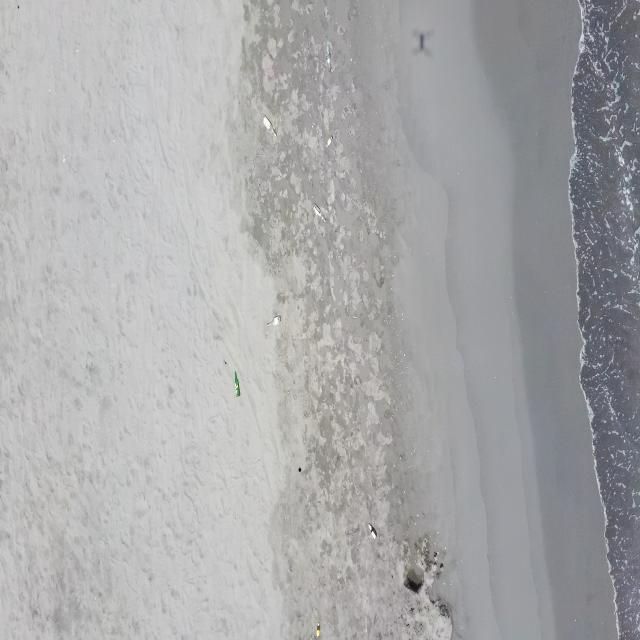glass: (262, 114, 278, 139), (312, 202, 327, 223), (266, 314, 281, 328), (234, 370, 241, 399), (325, 44, 332, 73), (368, 522, 378, 541), (325, 134, 333, 149), (316, 621, 320, 638)
